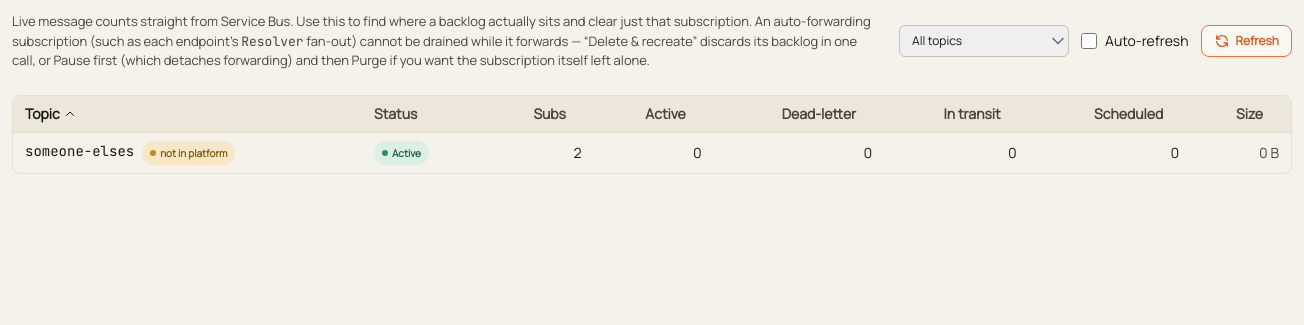
Test: SubscriptionManager › makes every action read-only on a topic the platform does not own
Click the button "someone-elses" at (80, 150), box x1=25 y1=140 x2=134 y2=160
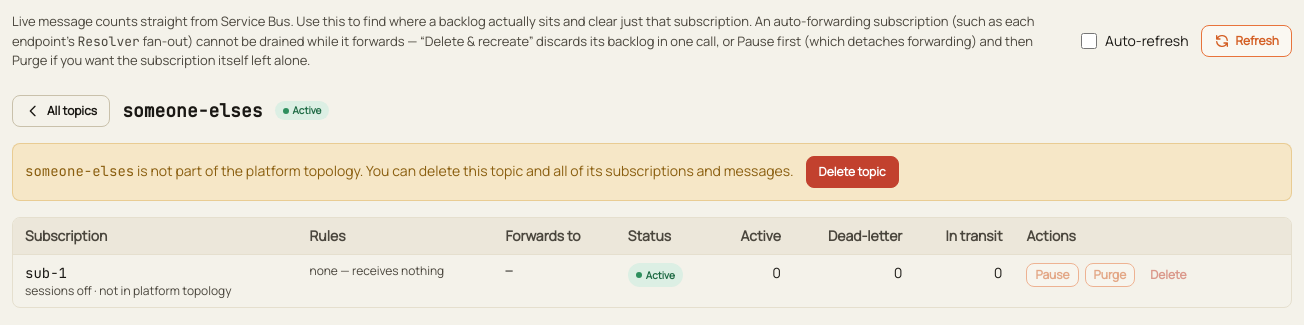
Expected: the text "is not part of the platform topology" is shown, x1=134 y1=160 x2=794 y2=180
Expected: the button "Pause" is disabled, x1=1026 y1=262 x2=1079 y2=286
